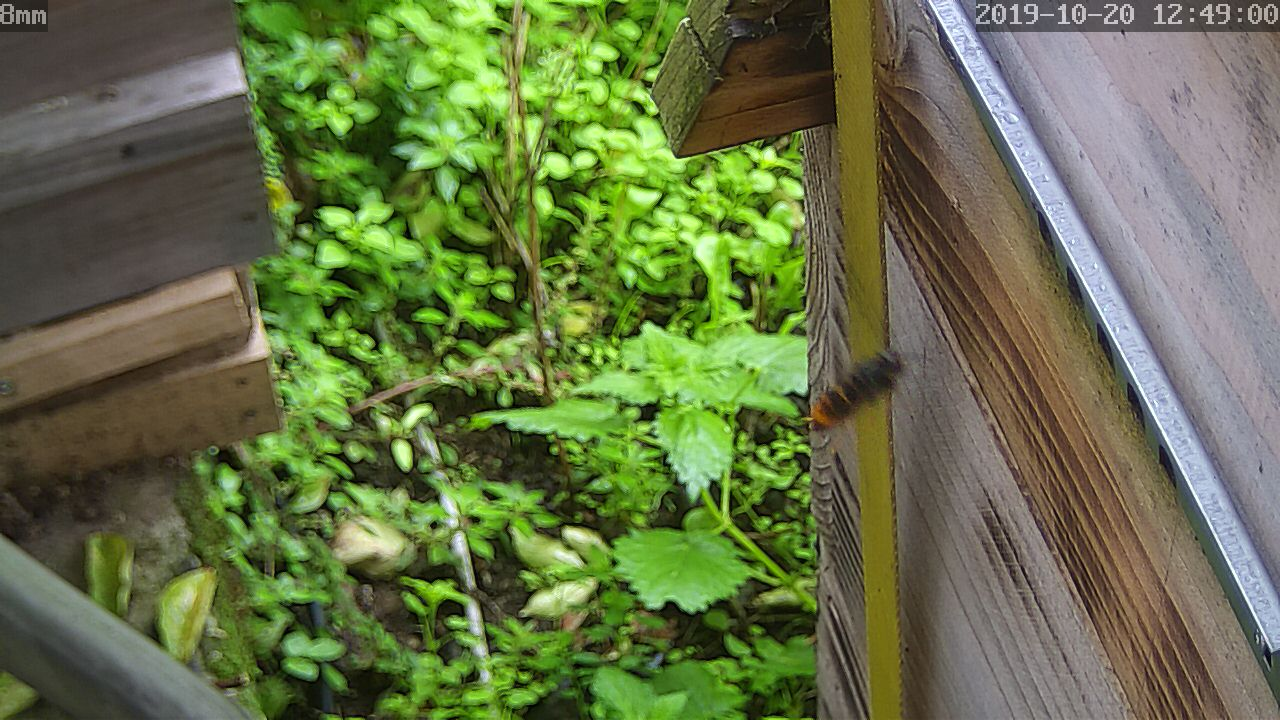hornet: (789, 333, 911, 438)
